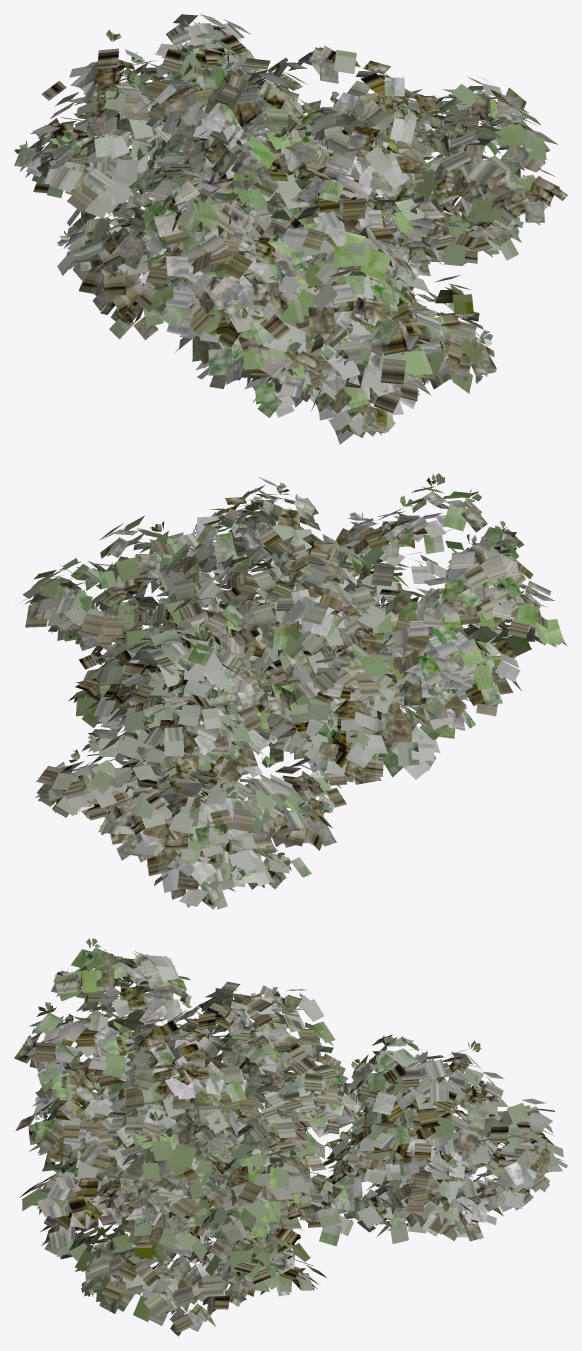
3 views of the same model, one above another, from view 1: azimuth 30°, elevation 25°; view 2: azimuth 150°, elevation 25°; view 3: azimuth 270°, elevation 25° (orthographic). The views are drawn at different scales.
Parts seen in each view (by area): view 1: pMesh1; view 2: pMesh1; view 3: pMesh1.
Boxes of the visible parts, x1,y1,x2,y2 form: pMesh1: (14, 14, 567, 444); pMesh1: (21, 473, 567, 909); pMesh1: (14, 938, 567, 1336).
Size of the model in its own units: 216 by 142 by 243.
